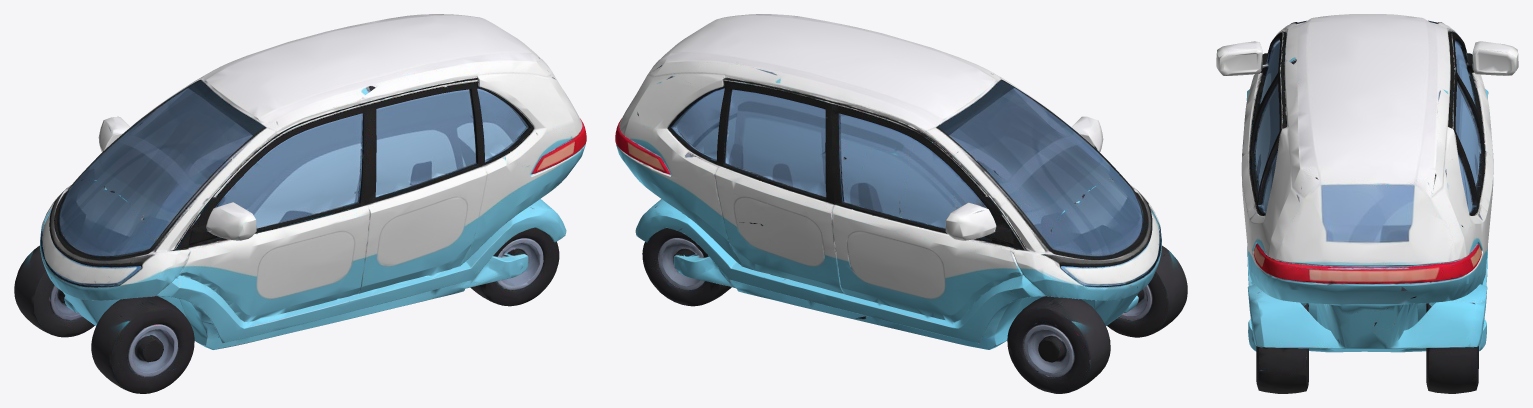
The model's file is tidego_car.glb.
The picture shows the model from 3 angles, left to right: view 1: azimuth 30°, elevation 25°; view 2: azimuth 150°, elevation 25°; view 3: azimuth 270°, elevation 25°; orthographic projection. The views are drawn at different scales.
Bounding box in the file's own units: 1.9 × 0.9021 × 0.9215.
Materials: 1 (1 with a texture image).
